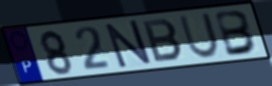2: (73, 25, 112, 72)
8: (37, 28, 74, 77)
B: (213, 9, 259, 58), (140, 18, 185, 64)
N: (103, 18, 154, 70)
U: (177, 11, 222, 60)
